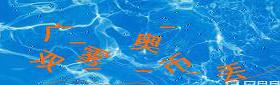chinese: (157, 51, 201, 75), (30, 48, 65, 73), (79, 47, 116, 70), (43, 19, 74, 46), (133, 31, 167, 53), (216, 62, 248, 83)
